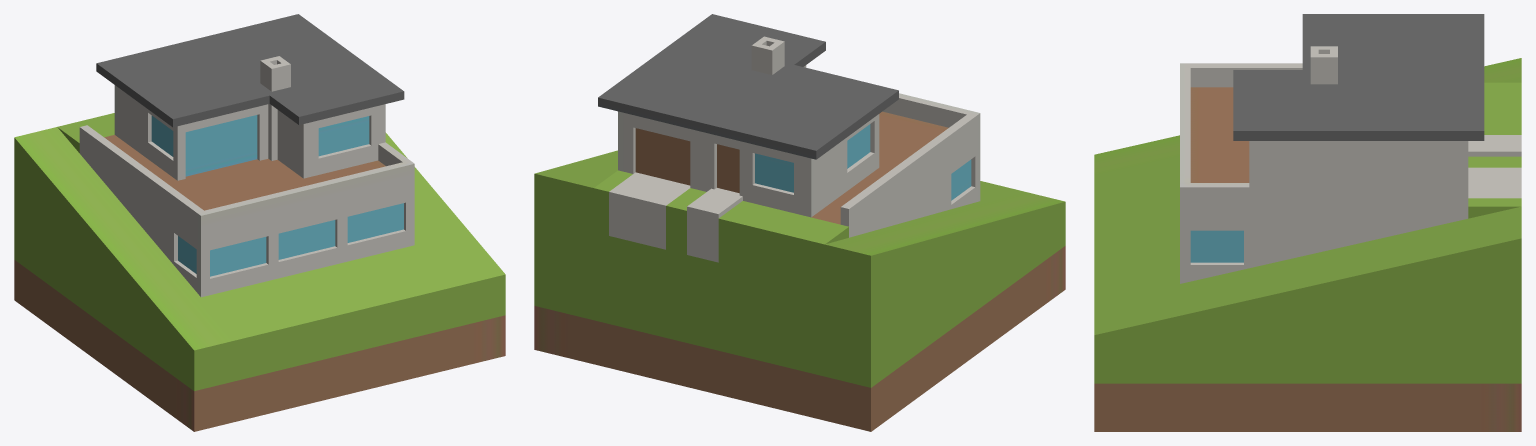
The model's file is building-house-hill.obj.
The picture shows the model from 3 angles, left to right: view 1: azimuth 30°, elevation 25°; view 2: azimuth 150°, elevation 25°; view 3: azimuth 270°, elevation 25°; orthographic projection. The views are drawn at different scales.
Parts seen in each view (by area): view 1: house-hill-normal_Cube.028; view 2: house-hill-normal_Cube.028; view 3: house-hill-normal_Cube.028.
Boxes of the visible parts, left/top/right/bottom form: house-hill-normal_Cube.028: left=14, top=14, right=505, bottom=431; house-hill-normal_Cube.028: left=534, top=14, right=1065, bottom=431; house-hill-normal_Cube.028: left=1094, top=14, right=1521, bottom=431.
Bounding box in the file's own units: 8 × 6.26 × 8.
